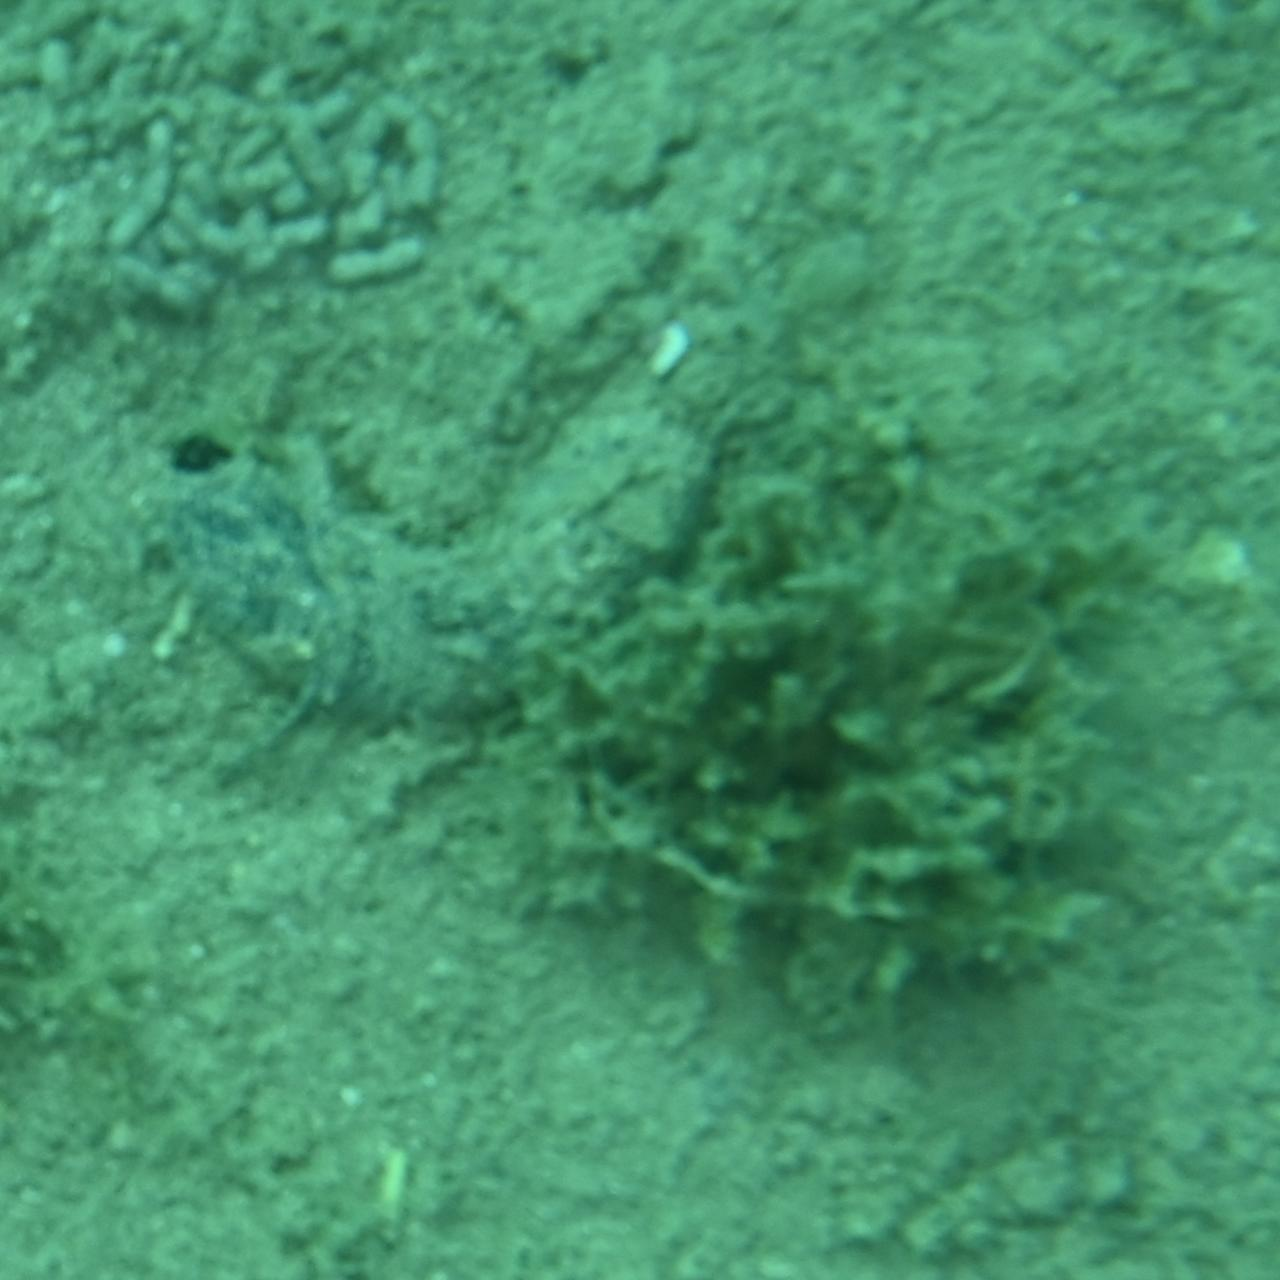Holothuria tubulosa: (142, 315, 756, 738)
Phaeophyceae -cfr Cystoseira-: (506, 434, 1158, 1075)
